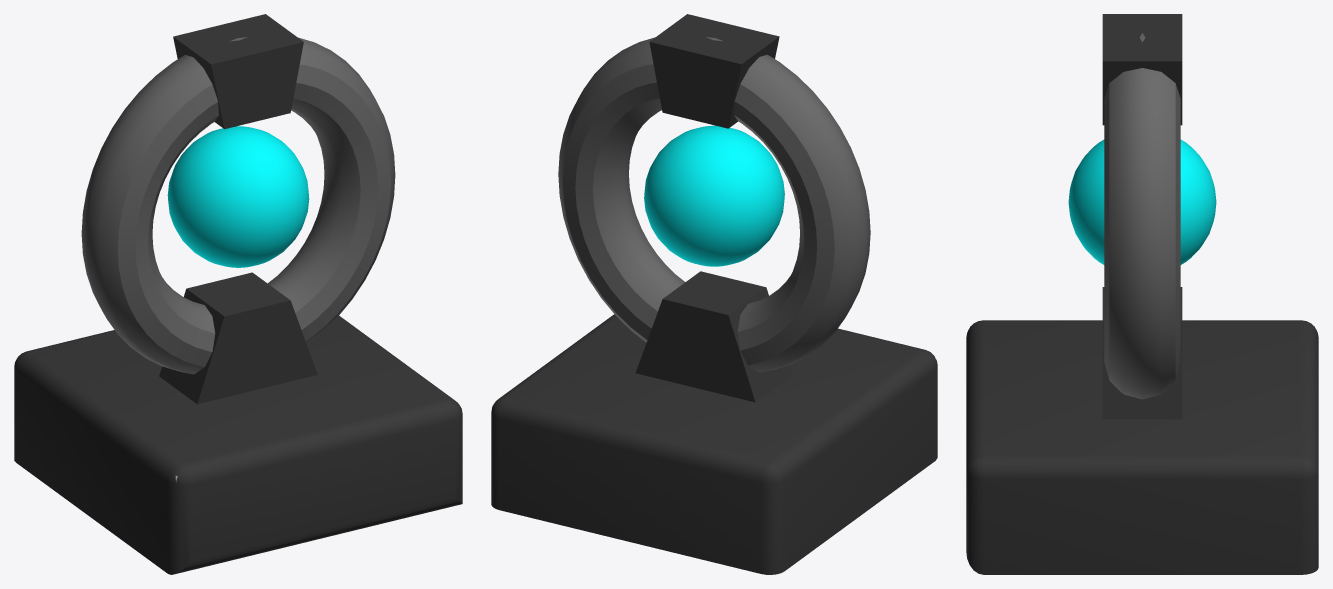
The model's file is ChargePoint.obj.
3 renders of one model, left to right at view 1: azimuth 30°, elevation 25°; view 2: azimuth 150°, elevation 25°; view 3: azimuth 270°, elevation 25°, orthographic. The views are drawn at different scales.
Visible parts, largest first — view 1: 球.001; view 2: 球.001; view 3: 球.001.
Boxes of the visible parts, box(x1,y1,x2,y2) form: 球.001: box(14, 14, 462, 574); 球.001: box(491, 14, 937, 574); 球.001: box(966, 14, 1318, 574).
Size of the model in its own units: 2.08 by 2.9 by 2.
1 material, 1 textured.
